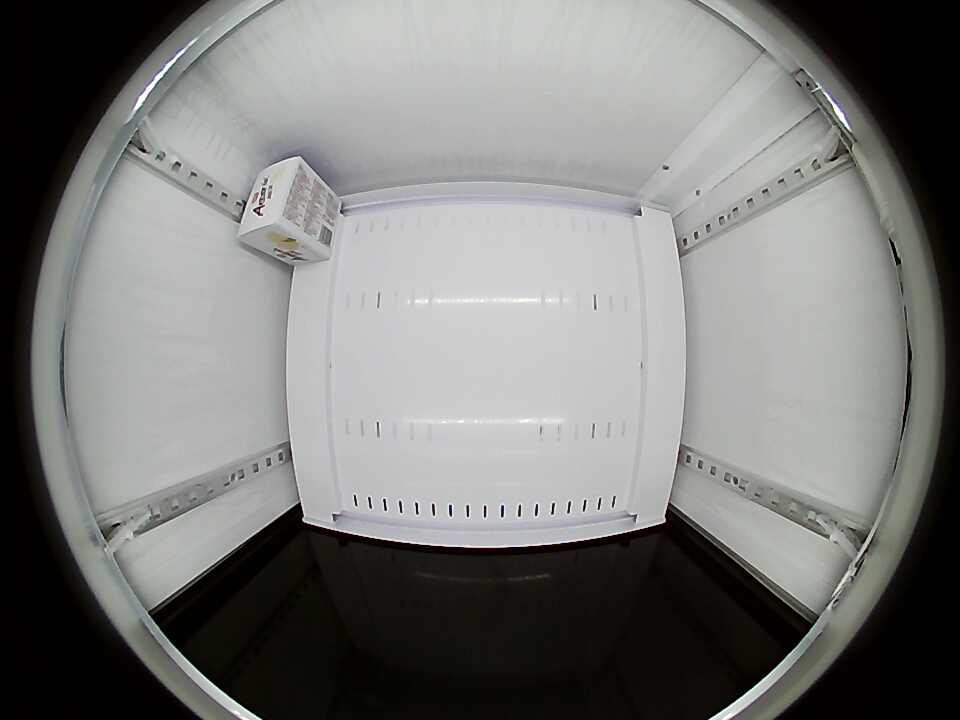meiniye: (237, 155, 317, 251)
